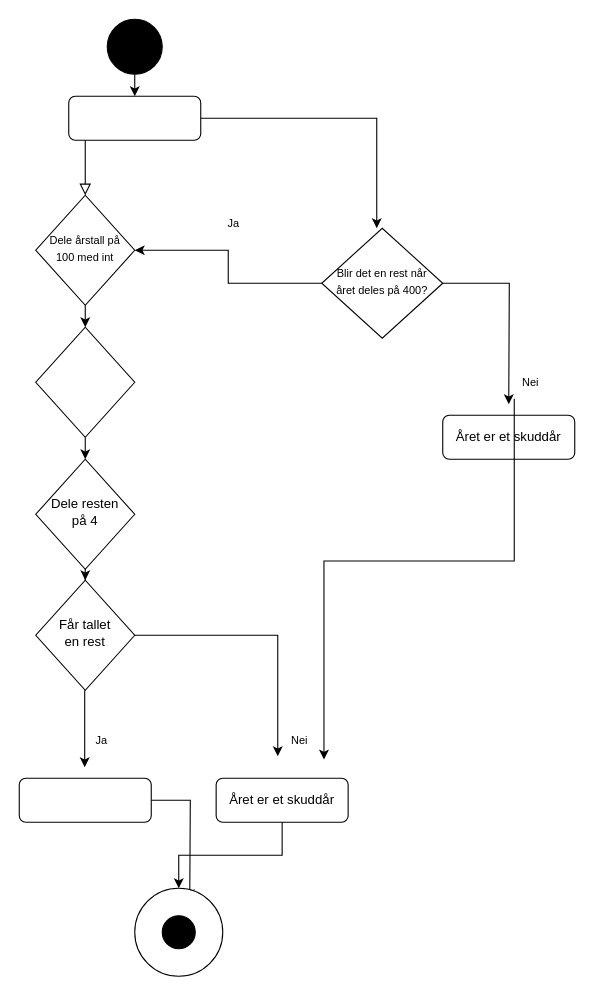
Image size: 594x996. Some labels were removed from this diagram. Here are the shapes that lost their labels. From the top down, the centre of each, then its label:
pixel 134 117: Motta input fra bruker
pixel 85 381: Motta resten
pixel 84 799: Året er ikke et skuddår
